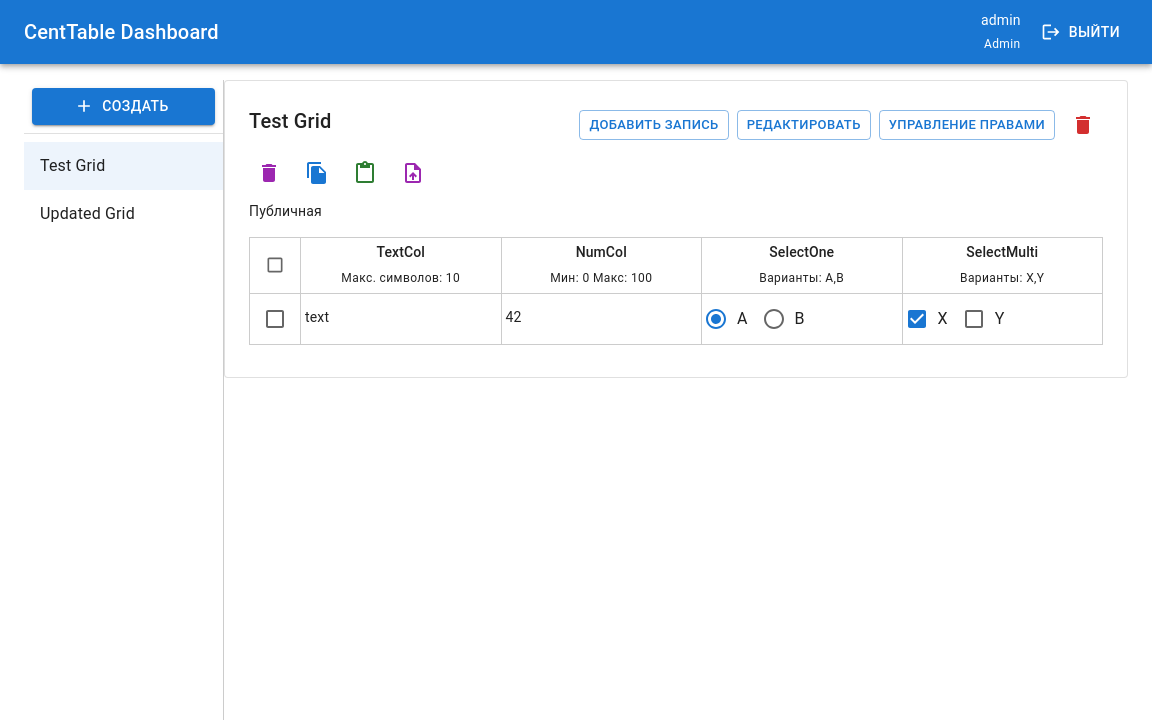
Scenario: Dashboard › clears selection when switching grid
The image size is (1152, 720).
Click the checkbox named "checkbox for row 1": (275, 319) x1=263 y1=307 x2=287 y2=331
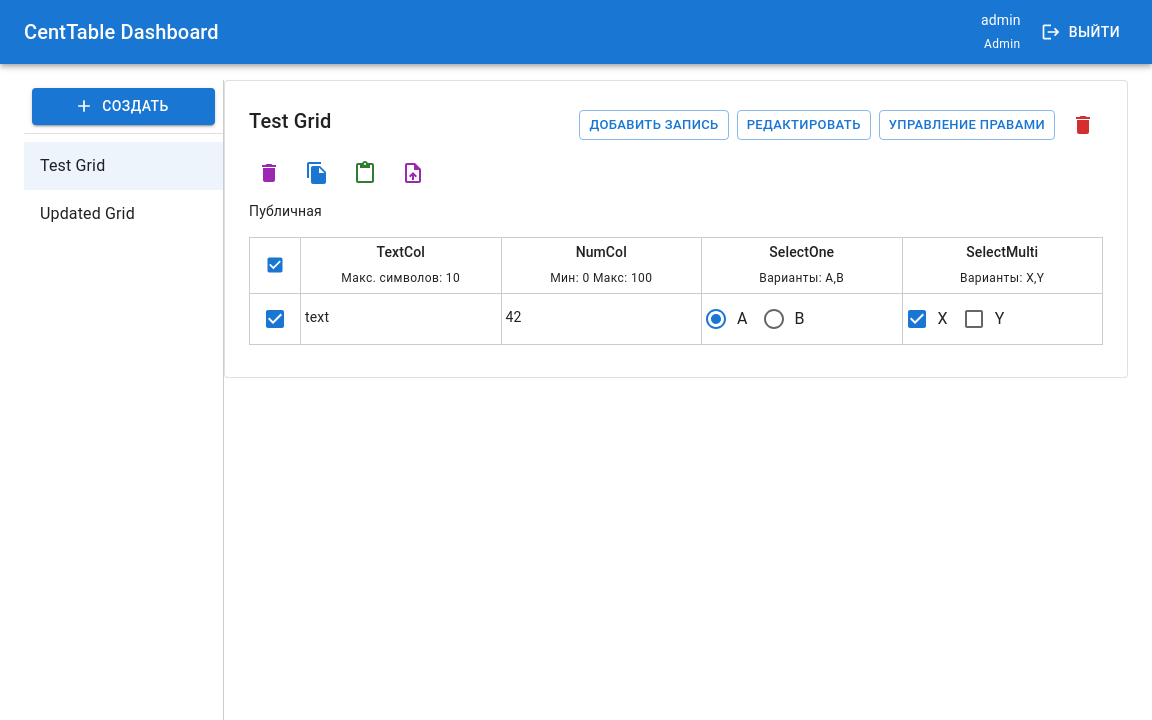
Now the checkbox named "checkbox for row 1" is checked, box x1=263 y1=307 x2=287 y2=331
Click the button "Updated Grid": (87, 213) x1=40 y1=204 x2=135 y2=222
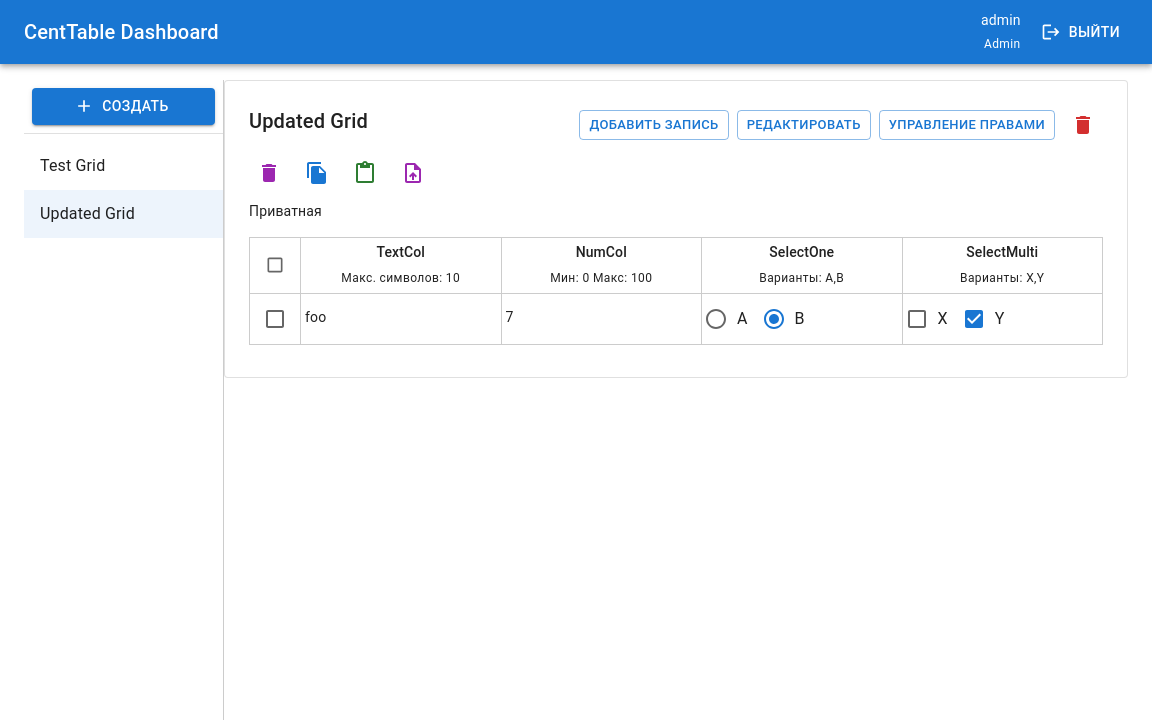
Now the element with test id "row-checkbox-1" is gone
